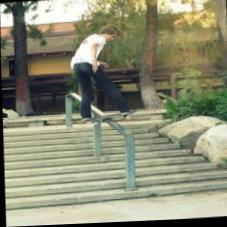Bench: (11, 144, 188, 219)
